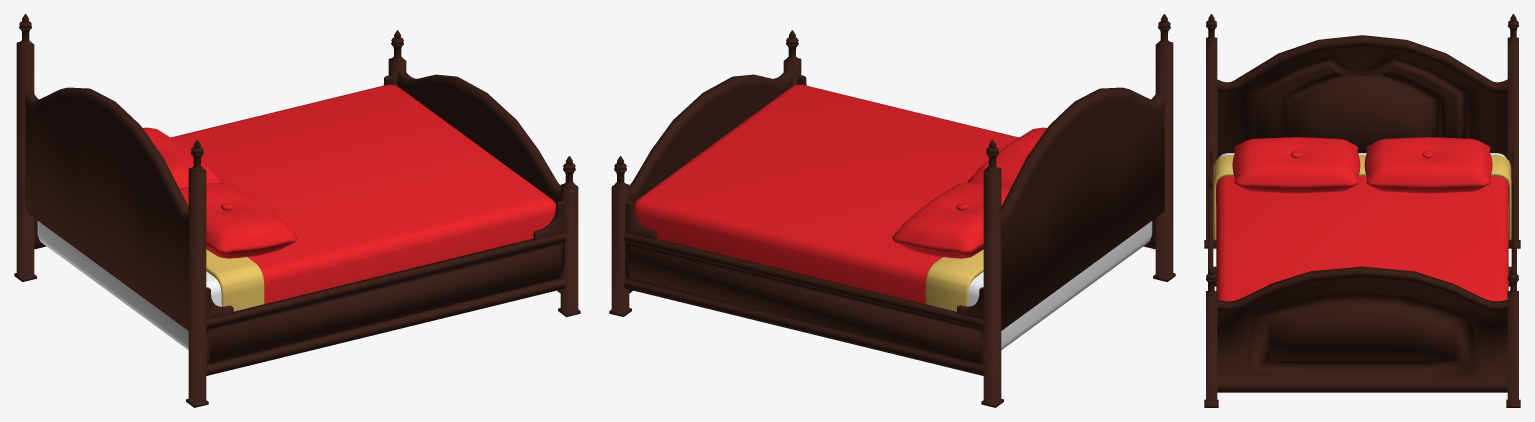
Rendered from Bed.fbx.
The picture shows the model from 3 angles, left to right: view 1: azimuth 30°, elevation 25°; view 2: azimuth 150°, elevation 25°; view 3: azimuth 270°, elevation 25°; orthographic projection. The views are drawn at different scales.
Parts seen in each view (by area): view 1: Bed_Corner_Ornaments; view 2: Bed_Corner_Ornaments; view 3: Bed_Corner_Ornaments.
Boxes of the visible parts, x1,y1,x2,y2 form: Bed_Corner_Ornaments: (14, 14, 580, 407); Bed_Corner_Ornaments: (609, 14, 1175, 407); Bed_Corner_Ornaments: (1204, 14, 1520, 407).
Size of the model in its own units: 407 by 265 by 328.
